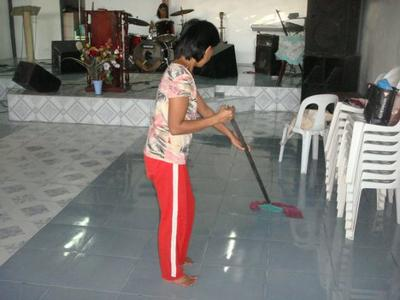person: (144, 18, 250, 289)
